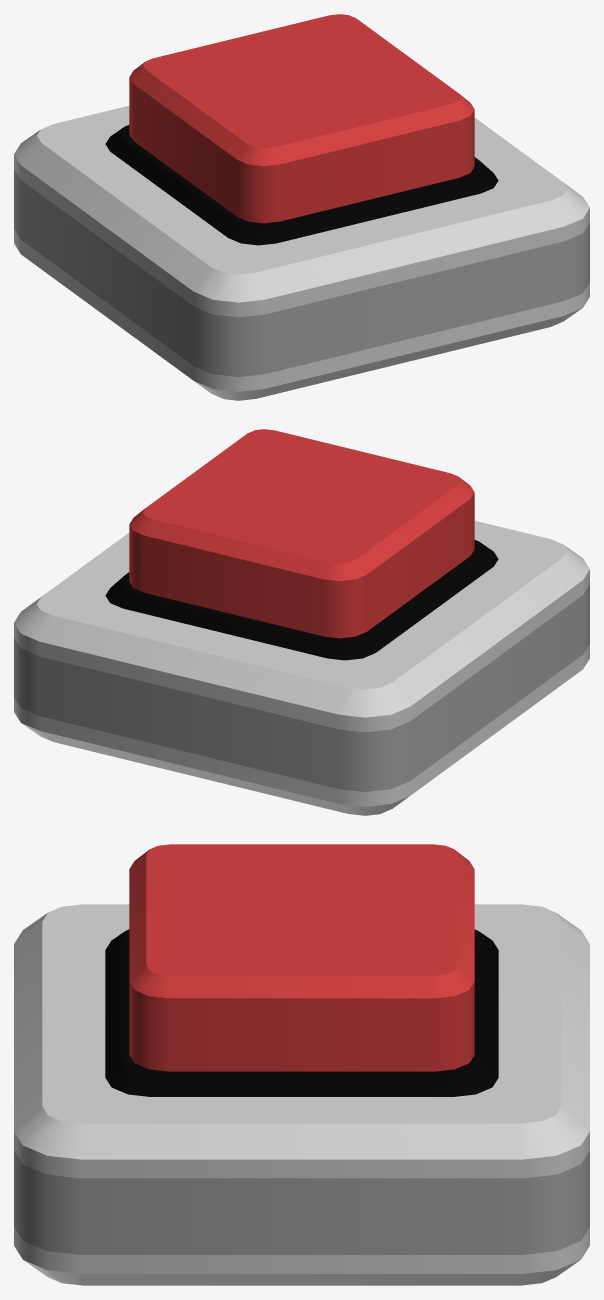
3 views of the same model, one above another, from view 1: azimuth 30°, elevation 25°; view 2: azimuth 150°, elevation 25°; view 3: azimuth 270°, elevation 25° (orthographic). The views are drawn at different scales.
Parts seen in each view (by area): view 1: LS_b_001, LS_b_001_button; view 2: LS_b_001, LS_b_001_button; view 3: LS_b_001, LS_b_001_button.
Boxes of the visible parts, <box> form: LS_b_001: <box>14,105,589,400</box>; LS_b_001_button: <box>129,14,474,223</box>; LS_b_001: <box>14,520,589,815</box>; LS_b_001_button: <box>129,429,474,638</box>; LS_b_001: <box>14,904,589,1285</box>; LS_b_001_button: <box>129,844,474,1071</box>.
Bounding box in the file's own units: 200 × 102 × 200.
